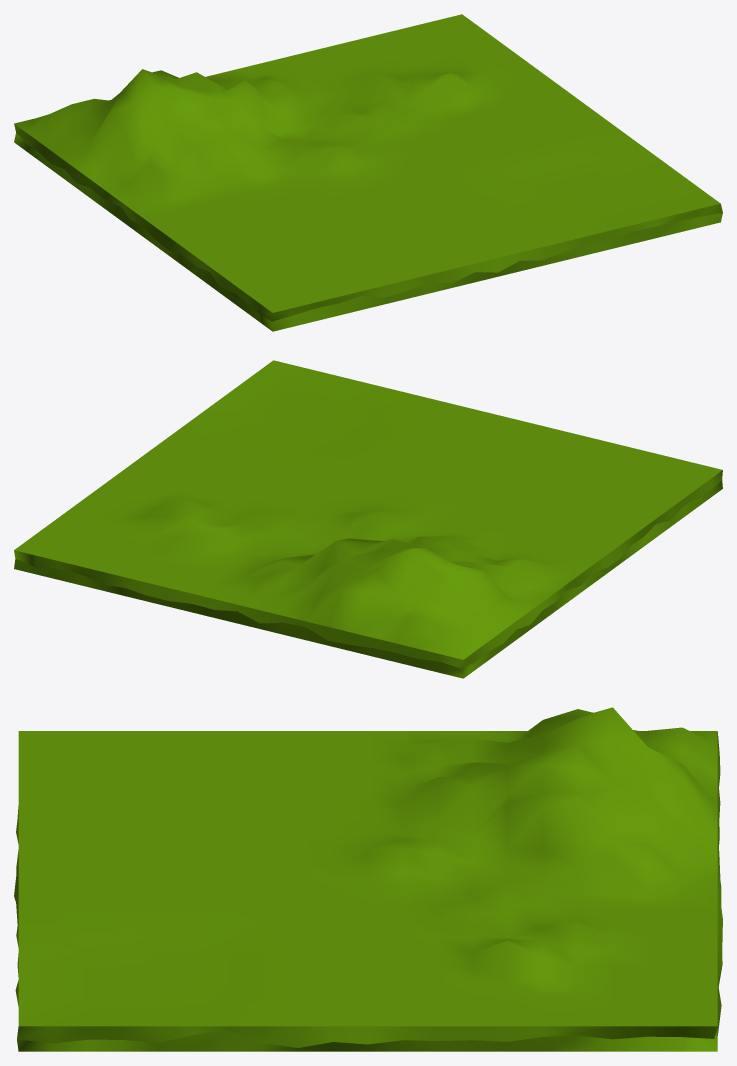
The model's file is niwa3.fbx.
The picture shows the model from 3 angles, top to bottom: view 1: azimuth 30°, elevation 25°; view 2: azimuth 150°, elevation 25°; view 3: azimuth 270°, elevation 25°; orthographic projection. The views are drawn at different scales.
Visible parts, largest first — view 1: pCube2; view 2: pCube2; view 3: pCube2.
Part boxes in pixels (x1=…): pCube2: x1=14, y1=14, x2=722, y2=331; pCube2: x1=14, y1=360, x2=722, y2=678; pCube2: x1=14, y1=707, x2=722, y2=1051.
Size of the model in its own units: 50.83 by 8.52 by 50.7.
